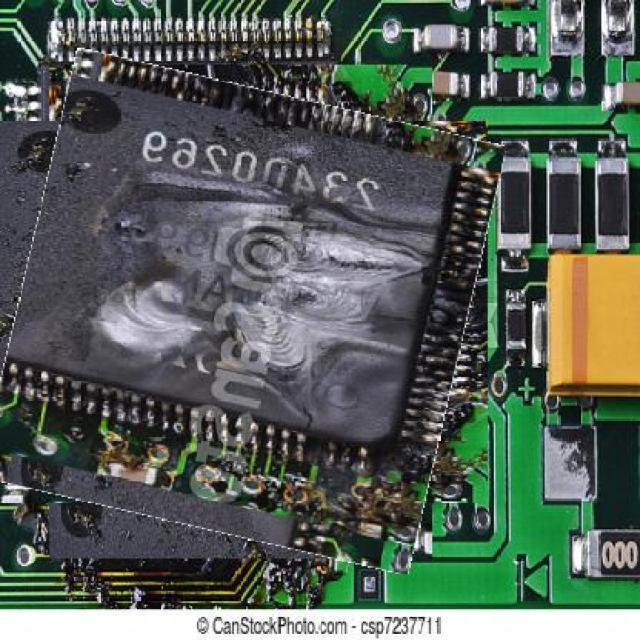Burn: (0, 70, 485, 556)
